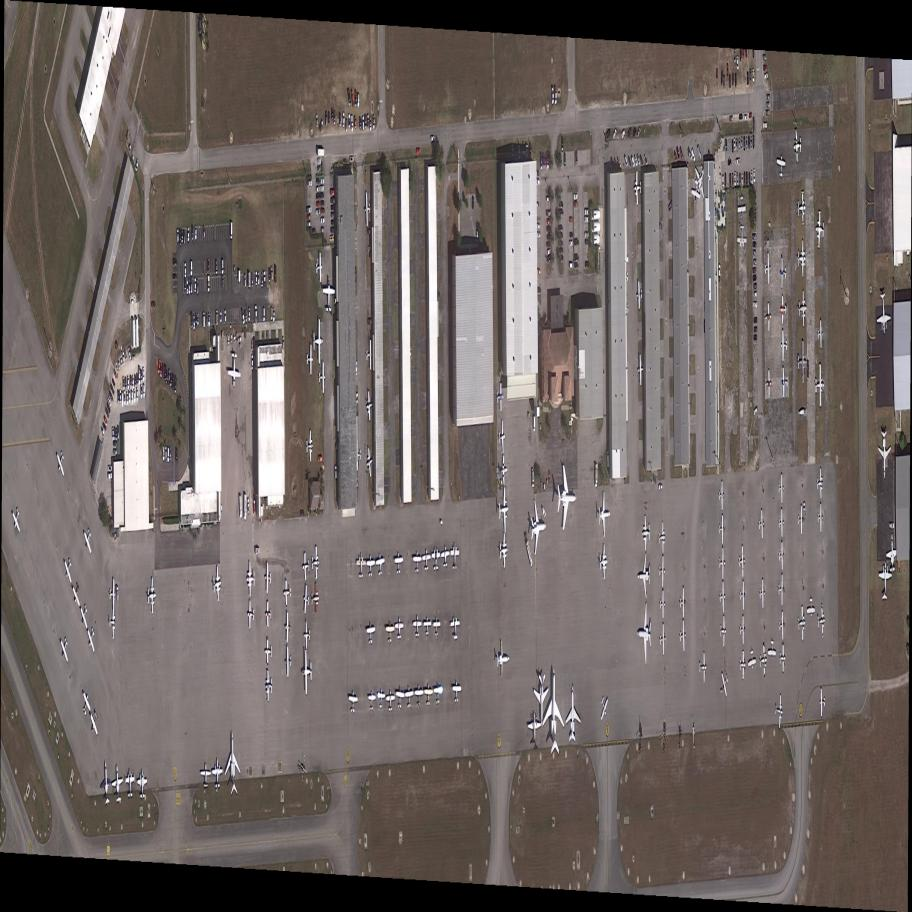large-vehicle: (525, 539, 534, 568), (244, 495, 247, 520), (595, 464, 598, 488), (318, 148, 325, 158), (239, 495, 242, 518)
plane: (542, 667, 564, 758), (557, 463, 577, 532), (688, 156, 714, 205), (224, 731, 241, 797), (565, 684, 581, 744), (531, 500, 547, 556), (637, 602, 651, 666), (84, 703, 105, 744), (51, 442, 71, 483), (534, 674, 549, 728), (76, 686, 97, 724), (55, 630, 75, 669), (594, 688, 614, 726), (82, 619, 101, 659), (66, 576, 87, 612), (79, 521, 98, 560), (75, 597, 94, 635), (7, 501, 26, 538), (878, 426, 891, 480), (59, 552, 77, 590), (637, 552, 651, 600), (877, 291, 891, 335), (878, 561, 893, 602), (100, 758, 112, 809), (111, 763, 124, 806), (322, 277, 336, 315), (599, 491, 610, 539), (228, 352, 241, 391), (497, 639, 510, 678), (886, 532, 898, 573), (302, 650, 312, 697), (313, 319, 323, 366), (499, 486, 509, 533), (719, 665, 732, 701), (797, 339, 807, 383), (528, 712, 541, 744), (815, 363, 824, 409), (774, 693, 784, 730), (815, 210, 824, 250), (365, 445, 375, 481), (213, 564, 222, 604), (499, 533, 508, 571), (137, 769, 148, 800), (793, 127, 802, 164), (212, 759, 223, 789), (797, 190, 806, 226), (125, 767, 135, 799), (798, 240, 806, 278), (148, 577, 156, 615), (691, 175, 701, 205), (799, 291, 807, 328), (450, 542, 460, 571), (364, 192, 372, 228), (247, 561, 255, 597), (642, 516, 650, 552), (200, 762, 211, 788), (798, 606, 806, 641), (817, 604, 825, 639), (634, 171, 642, 206), (302, 583, 310, 617), (450, 614, 460, 641), (366, 390, 374, 423), (719, 581, 727, 614), (776, 154, 786, 180), (356, 553, 366, 579), (737, 225, 747, 251), (500, 454, 508, 486), (353, 440, 361, 472), (600, 544, 607, 580), (348, 690, 358, 715), (764, 302, 772, 333), (311, 583, 319, 614), (306, 429, 313, 464), (498, 420, 505, 455), (395, 687, 405, 711), (285, 646, 292, 680), (265, 669, 272, 703), (638, 354, 645, 388), (283, 577, 291, 606), (312, 547, 319, 580), (316, 251, 323, 284), (109, 609, 116, 642), (265, 562, 272, 595), (720, 615, 727, 648), (636, 279, 643, 312), (778, 574, 785, 606), (760, 646, 767, 678), (699, 651, 706, 683), (719, 548, 726, 580), (781, 366, 788, 398), (780, 257, 787, 289), (452, 681, 462, 703), (302, 552, 309, 583), (758, 509, 765, 540), (780, 294, 787, 325), (424, 684, 433, 708), (659, 555, 665, 590), (779, 646, 786, 676), (247, 599, 254, 629), (432, 546, 440, 572), (376, 554, 385, 577), (386, 690, 395, 713), (395, 617, 404, 640), (660, 623, 666, 657), (739, 545, 745, 579), (109, 580, 116, 609), (497, 382, 504, 411), (413, 552, 422, 574), (422, 550, 431, 572), (441, 547, 450, 569), (367, 623, 376, 645), (386, 621, 395, 643), (680, 620, 686, 653), (747, 649, 756, 671), (765, 253, 771, 286), (405, 687, 414, 709), (415, 684, 424, 706), (434, 683, 443, 705), (765, 370, 772, 398), (817, 467, 823, 499), (319, 363, 325, 395), (307, 344, 313, 376), (366, 340, 372, 372), (680, 587, 686, 619), (413, 616, 422, 637), (817, 503, 823, 534), (778, 473, 784, 504), (659, 521, 665, 552), (759, 578, 765, 609), (781, 330, 787, 361), (395, 552, 403, 575), (377, 687, 385, 710), (738, 195, 746, 218), (265, 640, 272, 666), (819, 687, 825, 717), (817, 320, 823, 350), (304, 621, 310, 651), (285, 613, 291, 643), (719, 514, 725, 544), (740, 650, 746, 680), (807, 596, 815, 618), (367, 555, 375, 577), (368, 690, 376, 712), (779, 612, 785, 641), (798, 505, 804, 534), (768, 639, 776, 660), (265, 600, 271, 628), (424, 617, 432, 638), (719, 480, 724, 511), (433, 618, 441, 637), (779, 541, 784, 571), (740, 581, 745, 611), (740, 615, 745, 645), (660, 590, 665, 620), (779, 510, 784, 538)
small-vehicle: (539, 502, 548, 520), (665, 198, 676, 212), (696, 143, 703, 162), (612, 156, 620, 172), (625, 126, 634, 140), (101, 414, 109, 428), (112, 366, 119, 382), (690, 147, 697, 163), (609, 155, 616, 171), (607, 159, 614, 175), (619, 128, 628, 140), (104, 405, 111, 420), (108, 388, 115, 403), (630, 155, 637, 170), (626, 154, 633, 169), (241, 307, 246, 328), (611, 128, 619, 141), (134, 158, 140, 175), (105, 400, 112, 414), (635, 126, 642, 140), (638, 153, 645, 167), (100, 420, 108, 432), (127, 346, 133, 362), (173, 376, 178, 395), (347, 89, 352, 108), (109, 382, 116, 395), (633, 153, 639, 168), (675, 145, 681, 160), (643, 153, 649, 167), (623, 154, 629, 168), (673, 149, 678, 165), (679, 145, 684, 161), (107, 395, 113, 408), (687, 149, 693, 162), (605, 127, 611, 140), (616, 156, 622, 169), (167, 369, 171, 388), (351, 89, 355, 108), (100, 426, 106, 438), (111, 377, 117, 389), (171, 374, 175, 392), (631, 127, 638, 137), (636, 153, 641, 167), (319, 119, 324, 133), (244, 308, 248, 325), (554, 84, 557, 106), (115, 361, 120, 374), (169, 373, 173, 389), (255, 304, 258, 325), (124, 348, 128, 363), (207, 274, 210, 294), (531, 469, 534, 489), (547, 151, 550, 171), (230, 222, 233, 241), (190, 277, 193, 296), (607, 451, 610, 470), (749, 68, 752, 87), (551, 86, 554, 105), (409, 338, 412, 357), (533, 415, 536, 434), (117, 358, 121, 372), (753, 406, 758, 417), (175, 446, 178, 464), (188, 277, 191, 295), (584, 207, 590, 216), (253, 496, 256, 514), (263, 270, 266, 288), (167, 446, 170, 463), (142, 366, 145, 383), (729, 174, 732, 191), (255, 271, 258, 288), (274, 266, 277, 283), (526, 143, 529, 160), (657, 221, 662, 231), (117, 390, 120, 406), (122, 376, 125, 392), (184, 262, 187, 278), (194, 278, 197, 294), (166, 369, 169, 385), (164, 367, 167, 383), (160, 363, 163, 379), (162, 364, 165, 380), (196, 278, 199, 294), (748, 135, 751, 151), (354, 115, 357, 131), (357, 93, 360, 109), (251, 272, 254, 288), (306, 206, 312, 214), (561, 137, 564, 153), (122, 351, 125, 366), (187, 228, 190, 243), (191, 227, 194, 242), (190, 261, 193, 276), (186, 280, 189, 295), (140, 384, 143, 399), (129, 375, 132, 390), (113, 448, 118, 457), (158, 359, 161, 374), (207, 259, 210, 274), (215, 260, 218, 275), (559, 200, 564, 209), (584, 215, 589, 224), (738, 137, 741, 152), (752, 135, 755, 150), (518, 146, 521, 161), (546, 209, 551, 218), (316, 208, 321, 217), (173, 258, 177, 269), (120, 354, 123, 368), (133, 390, 136, 404), (136, 373, 139, 387), (134, 374, 137, 388), (325, 113, 328, 127), (282, 336, 285, 350), (257, 272, 260, 286), (172, 273, 177, 281), (349, 156, 354, 164), (574, 255, 579, 263), (558, 239, 563, 247), (574, 191, 578, 201), (584, 261, 589, 269), (753, 326, 758, 334), (889, 522, 894, 530), (764, 64, 769, 72), (546, 256, 551, 264), (317, 166, 322, 174), (546, 225, 551, 233), (320, 217, 325, 225), (330, 189, 335, 197), (416, 147, 421, 155), (330, 219, 335, 227), (330, 235, 335, 243), (741, 174, 744, 187), (348, 115, 351, 128), (719, 264, 721, 283), (541, 152, 543, 171), (179, 229, 181, 247), (108, 464, 112, 473), (108, 472, 112, 481), (574, 200, 578, 209), (734, 171, 736, 189), (807, 360, 809, 378), (729, 114, 733, 123), (753, 116, 755, 134), (334, 109, 336, 127), (351, 115, 353, 133), (355, 90, 357, 108), (191, 312, 193, 330), (261, 271, 263, 289), (536, 222, 540, 231), (536, 201, 540, 210), (536, 178, 540, 187), (331, 203, 335, 212), (355, 266, 357, 284), (558, 232, 563, 239), (558, 225, 563, 232), (558, 209, 563, 216), (569, 240, 574, 247), (574, 263, 579, 270), (574, 239, 579, 246), (559, 255, 564, 262), (307, 180, 312, 187), (546, 218, 551, 225), (320, 185, 325, 192), (368, 319, 373, 326), (139, 368, 141, 385), (721, 70, 723, 87), (222, 259, 224, 276), (203, 312, 205, 329), (206, 311, 208, 328), (216, 310, 218, 327), (193, 316, 195, 332), (183, 229, 185, 245), (132, 375, 134, 391), (143, 385, 145, 401), (117, 426, 119, 442), (113, 440, 117, 448), (735, 73, 737, 89), (569, 262, 573, 270), (537, 286, 541, 294), (585, 231, 589, 239), (753, 267, 757, 275), (744, 171, 746, 187), (746, 171, 748, 187), (749, 171, 751, 187), (751, 170, 753, 186), (753, 168, 755, 184), (736, 158, 740, 166), (753, 241, 757, 249), (753, 258, 757, 266), (753, 274, 757, 282), (754, 316, 758, 324), (300, 510, 304, 518), (764, 72, 768, 80), (766, 100, 770, 108), (763, 122, 767, 130), (744, 114, 748, 122), (559, 246, 563, 254), (343, 112, 345, 128), (362, 115, 364, 131), (365, 115, 367, 131), (373, 115, 375, 131), (247, 498, 249, 514), (251, 354, 253, 370), (271, 266, 273, 282), (547, 248, 551, 256), (546, 196, 550, 204), (547, 233, 551, 241), (430, 135, 434, 143), (312, 228, 316, 236), (320, 200, 324, 208), (330, 226, 334, 234), (355, 360, 357, 376), (318, 455, 322, 463), (163, 446, 165, 461), (165, 446, 167, 461), (195, 226, 197, 241), (203, 226, 205, 241), (126, 392, 128, 407), (136, 388, 138, 403), (114, 427, 116, 442), (737, 56, 739, 71), (723, 75, 725, 90), (737, 172, 739, 187), (732, 173, 734, 188), (734, 138, 736, 153), (736, 138, 738, 153), (743, 136, 745, 151), (746, 137, 748, 152), (750, 135, 752, 150), (725, 172, 727, 187), (316, 114, 318, 129), (339, 113, 341, 128), (359, 116, 361, 131), (208, 313, 210, 328), (263, 307, 265, 322), (271, 307, 273, 322), (269, 269, 271, 284), (543, 152, 545, 167), (564, 153, 566, 168), (132, 355, 136, 362), (124, 392, 126, 406), (125, 377, 127, 391), (177, 230, 179, 244), (181, 230, 183, 244), (129, 391, 131, 405), (127, 377, 129, 391), (131, 391, 133, 405), (141, 370, 143, 384), (112, 427, 114, 441), (151, 301, 155, 308), (734, 50, 736, 64), (732, 72, 734, 86), (729, 74, 731, 88), (727, 63, 729, 77), (569, 215, 573, 222), (569, 231, 573, 238), (739, 173, 741, 187), (752, 234, 756, 241), (753, 250, 757, 257), (753, 284, 757, 291), (754, 292, 758, 299), (753, 302, 757, 309), (763, 55, 767, 62), (725, 139, 727, 153), (741, 137, 743, 151), (739, 114, 743, 121), (728, 159, 732, 166), (328, 111, 330, 125), (346, 119, 348, 133), (244, 274, 246, 288), (367, 115, 369, 129), (370, 118, 372, 132), (317, 159, 321, 166), (222, 275, 224, 289), (195, 315, 197, 329), (220, 311, 222, 325), (224, 310, 226, 324), (248, 308, 250, 322), (273, 308, 275, 322), (537, 269, 541, 276), (537, 231, 541, 238), (512, 144, 514, 158), (472, 197, 474, 211), (545, 153, 547, 167), (576, 151, 578, 165), (547, 241, 551, 248), (476, 230, 478, 244), (316, 178, 320, 185), (321, 227, 325, 234), (321, 208, 325, 215), (316, 200, 320, 207), (316, 193, 320, 200), (320, 193, 324, 200), (316, 186, 320, 193), (331, 197, 335, 204), (331, 212, 335, 219), (184, 278, 186, 291), (732, 140, 734, 153), (722, 175, 724, 188), (331, 108, 333, 121), (197, 313, 199, 326), (335, 466, 337, 479), (716, 68, 718, 80), (747, 73, 749, 85), (753, 335, 757, 341), (766, 95, 770, 101), (766, 109, 769, 117), (307, 222, 311, 228), (659, 483, 662, 490), (749, 112, 752, 119), (307, 215, 311, 220), (585, 239, 588, 245), (120, 391, 121, 405), (170, 448, 171, 462), (116, 428, 117, 442), (753, 68, 754, 82)
